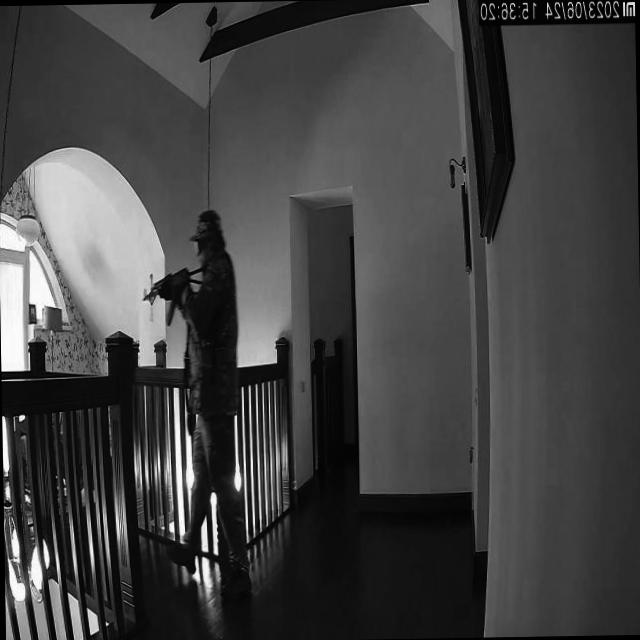gun: (139, 261, 211, 324)
person with a gun: (141, 207, 252, 598)
